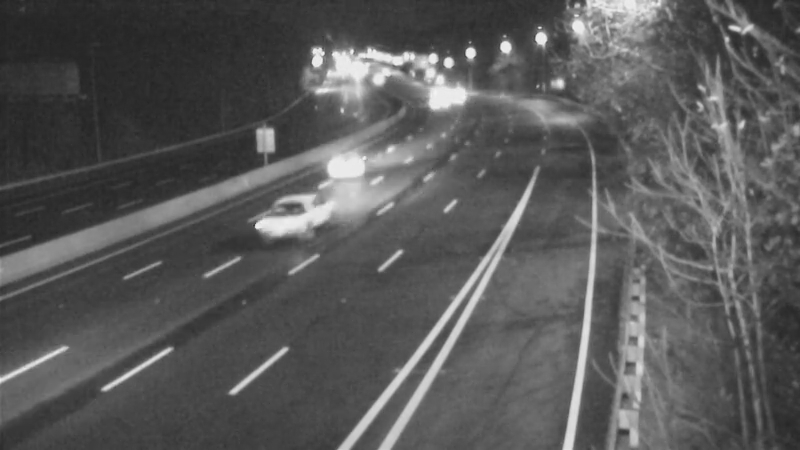vehicle: (311, 123, 391, 203), (247, 182, 327, 262), (415, 76, 465, 126)
